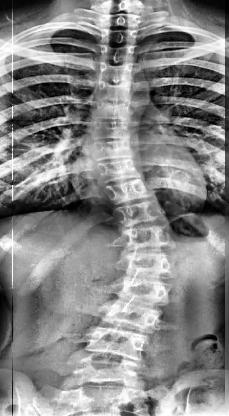Vertebrae: (70, 359, 144, 385), (97, 303, 168, 330), (117, 224, 184, 252), (82, 329, 150, 356), (124, 252, 184, 280), (109, 201, 168, 225), (100, 178, 154, 204), (94, 156, 148, 182), (120, 281, 174, 306), (96, 45, 140, 69), (92, 100, 132, 124), (90, 140, 134, 160), (94, 80, 134, 102), (86, 121, 132, 140), (97, 62, 139, 82), (99, 28, 139, 48)
